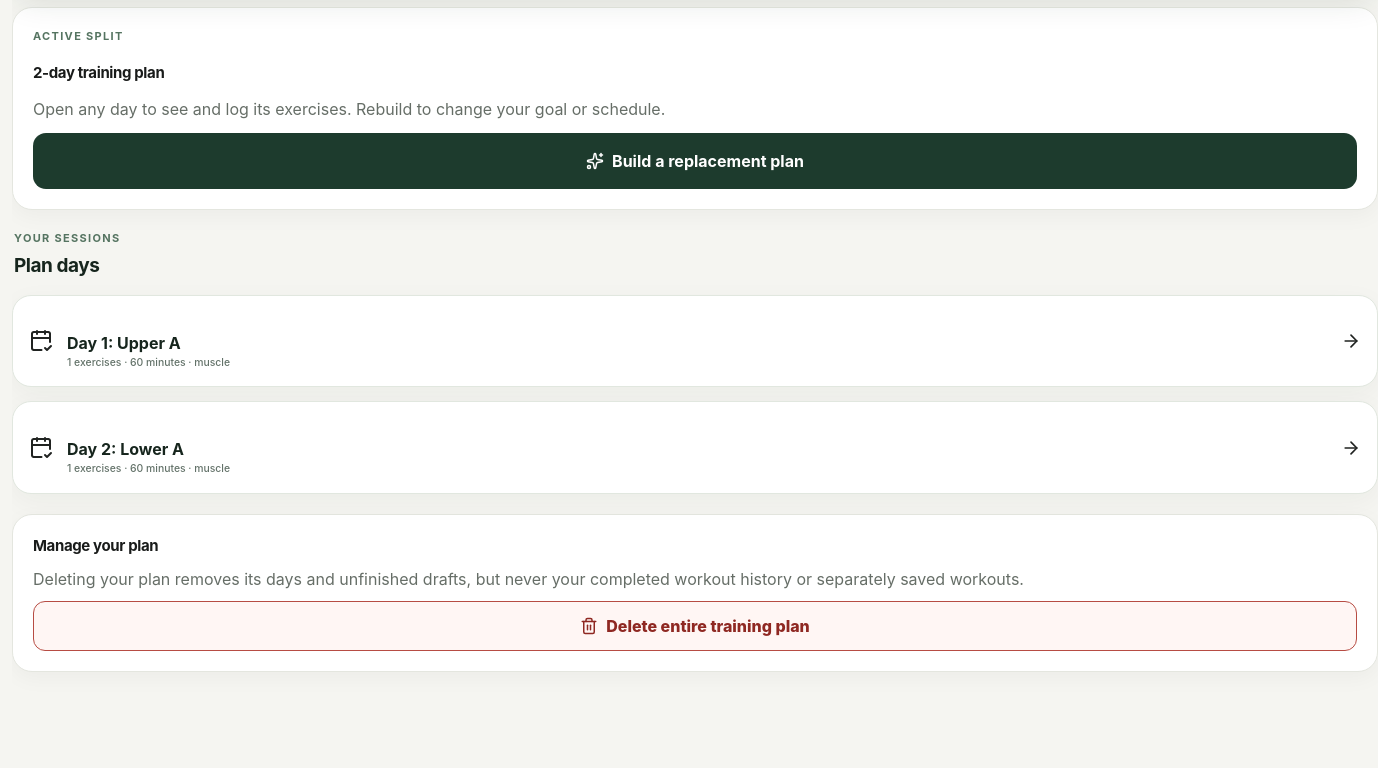
Test: active training plan screen › deletes only the active plan and its unfinished drafts, without touching history
(page scrolled)
Click the button "Delete entire training plan" at [695, 626], box [33,602,1357,652]
(page scrolled)
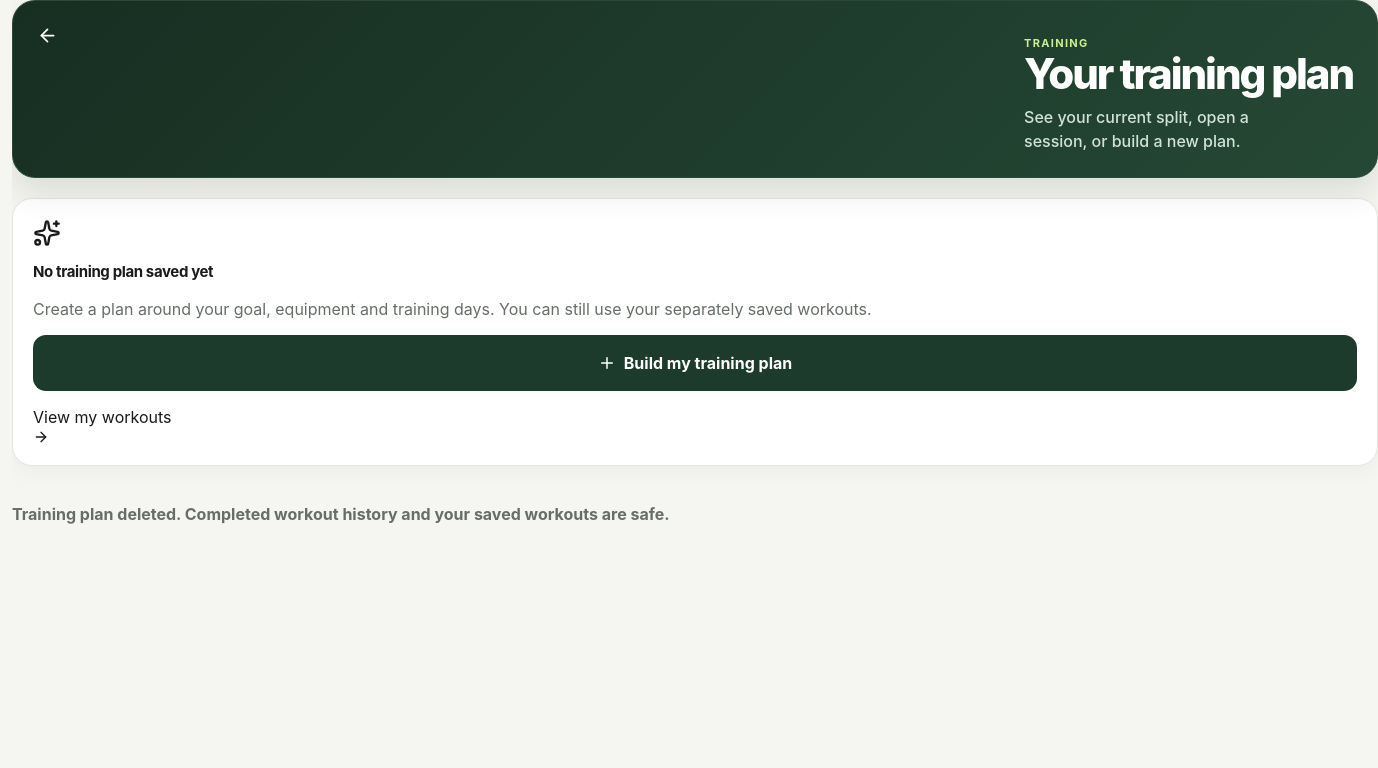
Expected: the heading "No training plan saved yet" is shown, [33,262,213,281]
